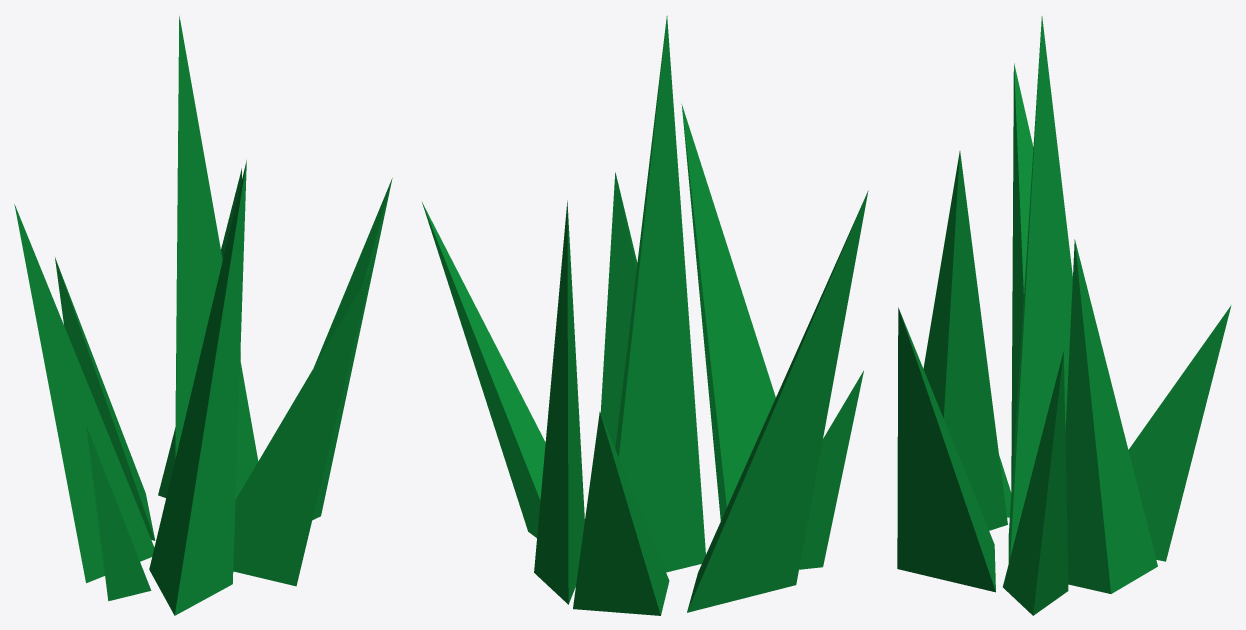
Rendered from grass2.fbx.
The picture shows the model from 3 angles, left to right: view 1: azimuth 30°, elevation 25°; view 2: azimuth 150°, elevation 25°; view 3: azimuth 270°, elevation 25°; orthographic projection. The views are drawn at different scales.
Parts seen in each view (by area): view 1: Cone; view 2: Cone; view 3: Cone.
Boxes of the visible parts, left/top/right/bottom form: Cone: left=14, top=16, right=392, bottom=615; Cone: left=422, top=15, right=868, bottom=615; Cone: left=897, top=16, right=1231, bottom=615.
Size of the model in its own units: 98.6 by 124 by 70.47.
